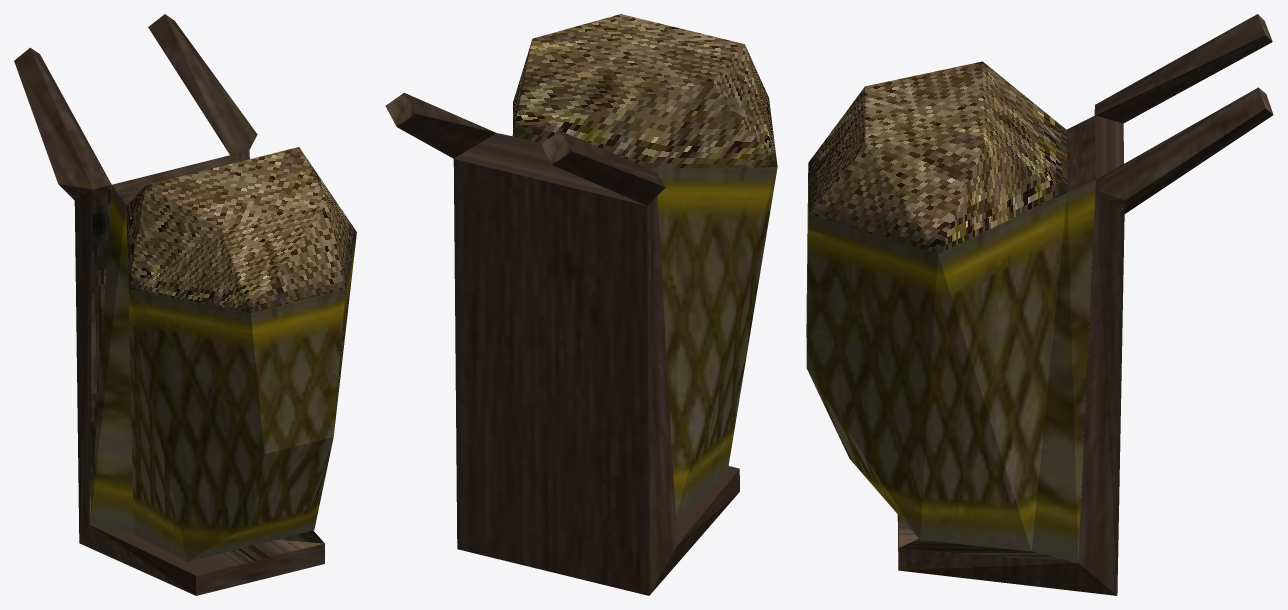
Rendered from STATIC_KOSZYKORIGIN.glb.
3 views of the same model, side by side, from view 1: azimuth 30°, elevation 25°; view 2: azimuth 150°, elevation 25°; view 3: azimuth 270°, elevation 25° (orthographic). The views are drawn at different scales.
Parts seen in each view (by area): view 1: STATIC_KOSZYKORIGIN; view 2: STATIC_KOSZYKORIGIN; view 3: STATIC_KOSZYKORIGIN.
Boxes of the visible parts, <box> form: STATIC_KOSZYKORIGIN: <box>14,14,356,595</box>; STATIC_KOSZYKORIGIN: <box>385,14,777,595</box>; STATIC_KOSZYKORIGIN: <box>806,14,1273,595</box>.
Bounding box in the file's own units: 0.5226 × 0.9742 × 0.8254.
Materials: 4 (4 with a texture image).
